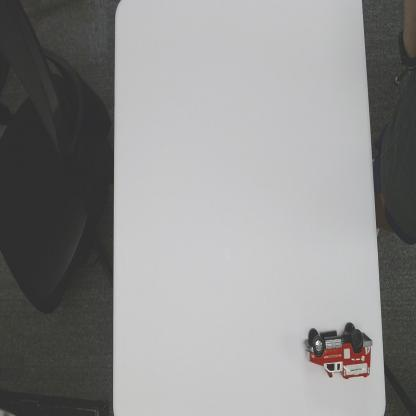Firetruck: (303, 320, 374, 381)
